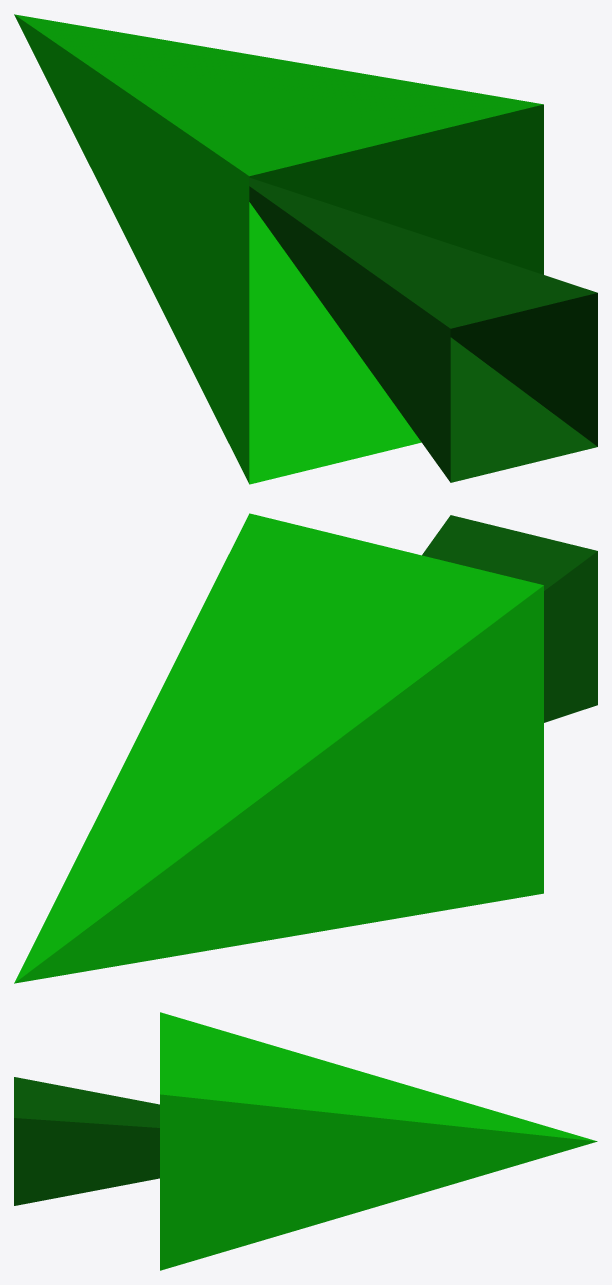
The model's file is TreeFBX.fbx.
3 renders of one model, top to bottom at view 1: azimuth 30°, elevation 25°; view 2: azimuth 150°, elevation 25°; view 3: azimuth 270°, elevation 25°, orthographic. The views are drawn at different scales.
Parts seen in each view (by area): view 1: Cube; view 2: Cube; view 3: Cube.
Part boxes in pixels (x1,y1,x2,y2): Cube: (14, 14, 597, 484); Cube: (14, 513, 597, 983); Cube: (14, 1012, 597, 1270).
Size of the model in its own units: 400 by 400 by 1200.
